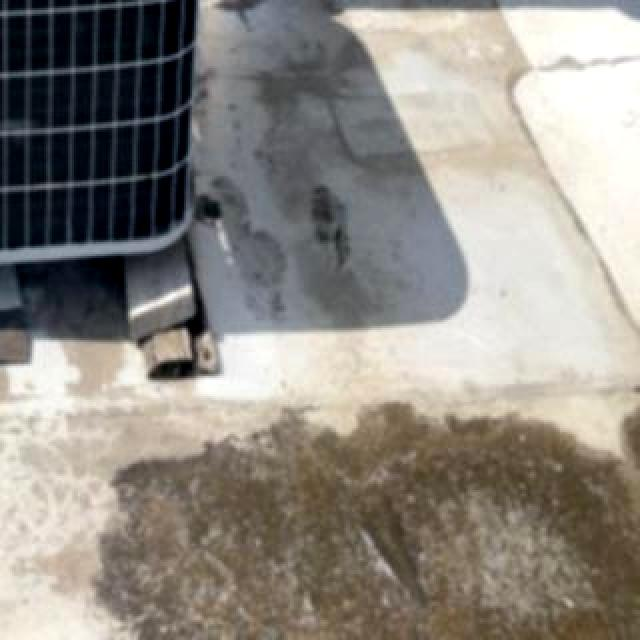SPLIT-SYSTEM: (0, 0, 234, 280)
